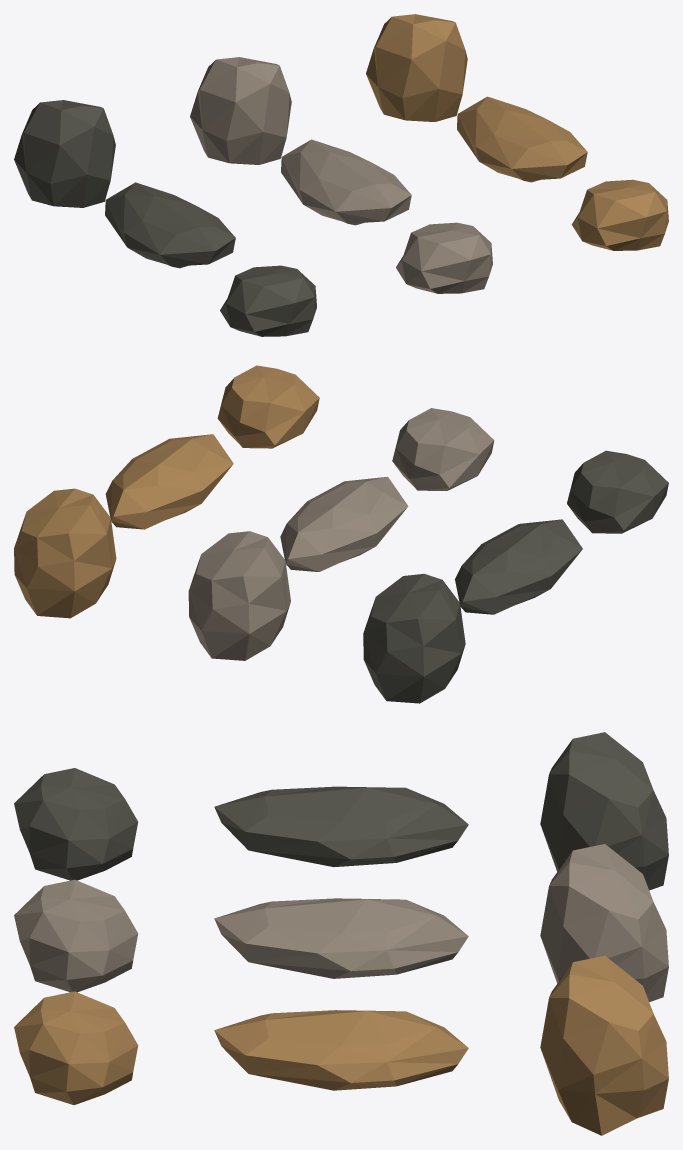
Rendered from rocks.glb.
3 views of the same model, one above another, from view 1: azimuth 30°, elevation 25°; view 2: azimuth 150°, elevation 25°; view 3: azimuth 270°, elevation 25° (orthographic). The views are drawn at different scales.
Parts seen in each view (by area): view 1: Light Grey Rock 3, Dark Grey Rock 3, Sandy Rock 3, Sandy Rock 2, Dark Grey Rock 2, Light Grey Rock 2, Light Grey Rock 1, Sandy Rock 1, Dark Grey Rock 1; view 2: Dark Grey Rock 3, Light Grey Rock 3, Sandy Rock 3, Dark Grey Rock 2, Light Grey Rock 2, Sandy Rock 2, Sandy Rock 1, Dark Grey Rock 1, Light Grey Rock 1; view 3: Sandy Rock 3, Dark Grey Rock 2, Light Grey Rock 2, Sandy Rock 2, Dark Grey Rock 3, Light Grey Rock 3, Sandy Rock 1, Dark Grey Rock 1, Light Grey Rock 1.
Part boxes in pixels (x1,y1,x2,y2): Light Grey Rock 3: (190,57,291,164); Dark Grey Rock 3: (14,100,115,207); Sandy Rock 3: (366,14,467,121); Sandy Rock 2: (457,96,587,182); Dark Grey Rock 2: (105,182,235,268); Light Grey Rock 2: (281,139,411,225); Light Grey Rock 1: (396,222,492,293); Sandy Rock 1: (571,179,668,250); Dark Grey Rock 1: (220,265,316,336); Dark Grey Rock 3: (363,573,465,703); Light Grey Rock 3: (188,531,290,660); Sandy Rock 3: (14,488,116,618); Dark Grey Rock 2: (455,519,582,614); Light Grey Rock 2: (280,476,408,571); Sandy Rock 2: (105,434,233,529); Sandy Rock 1: (217,365,319,448); Dark Grey Rock 1: (567,450,668,533); Light Grey Rock 1: (392,408,494,490); Sandy Rock 3: (540,955,668,1135); Dark Grey Rock 2: (214,786,468,866); Light Grey Rock 2: (214,898,468,978); Sandy Rock 2: (214,1010,468,1090); Dark Grey Rock 3: (540,732,668,890); Light Grey Rock 3: (540,844,668,1001); Sandy Rock 1: (14,991,138,1104); Dark Grey Rock 1: (14,768,137,880); Light Grey Rock 1: (14,879,138,992).
Bounding box in the file's own units: 2.51 × 0.5865 × 2.48.
